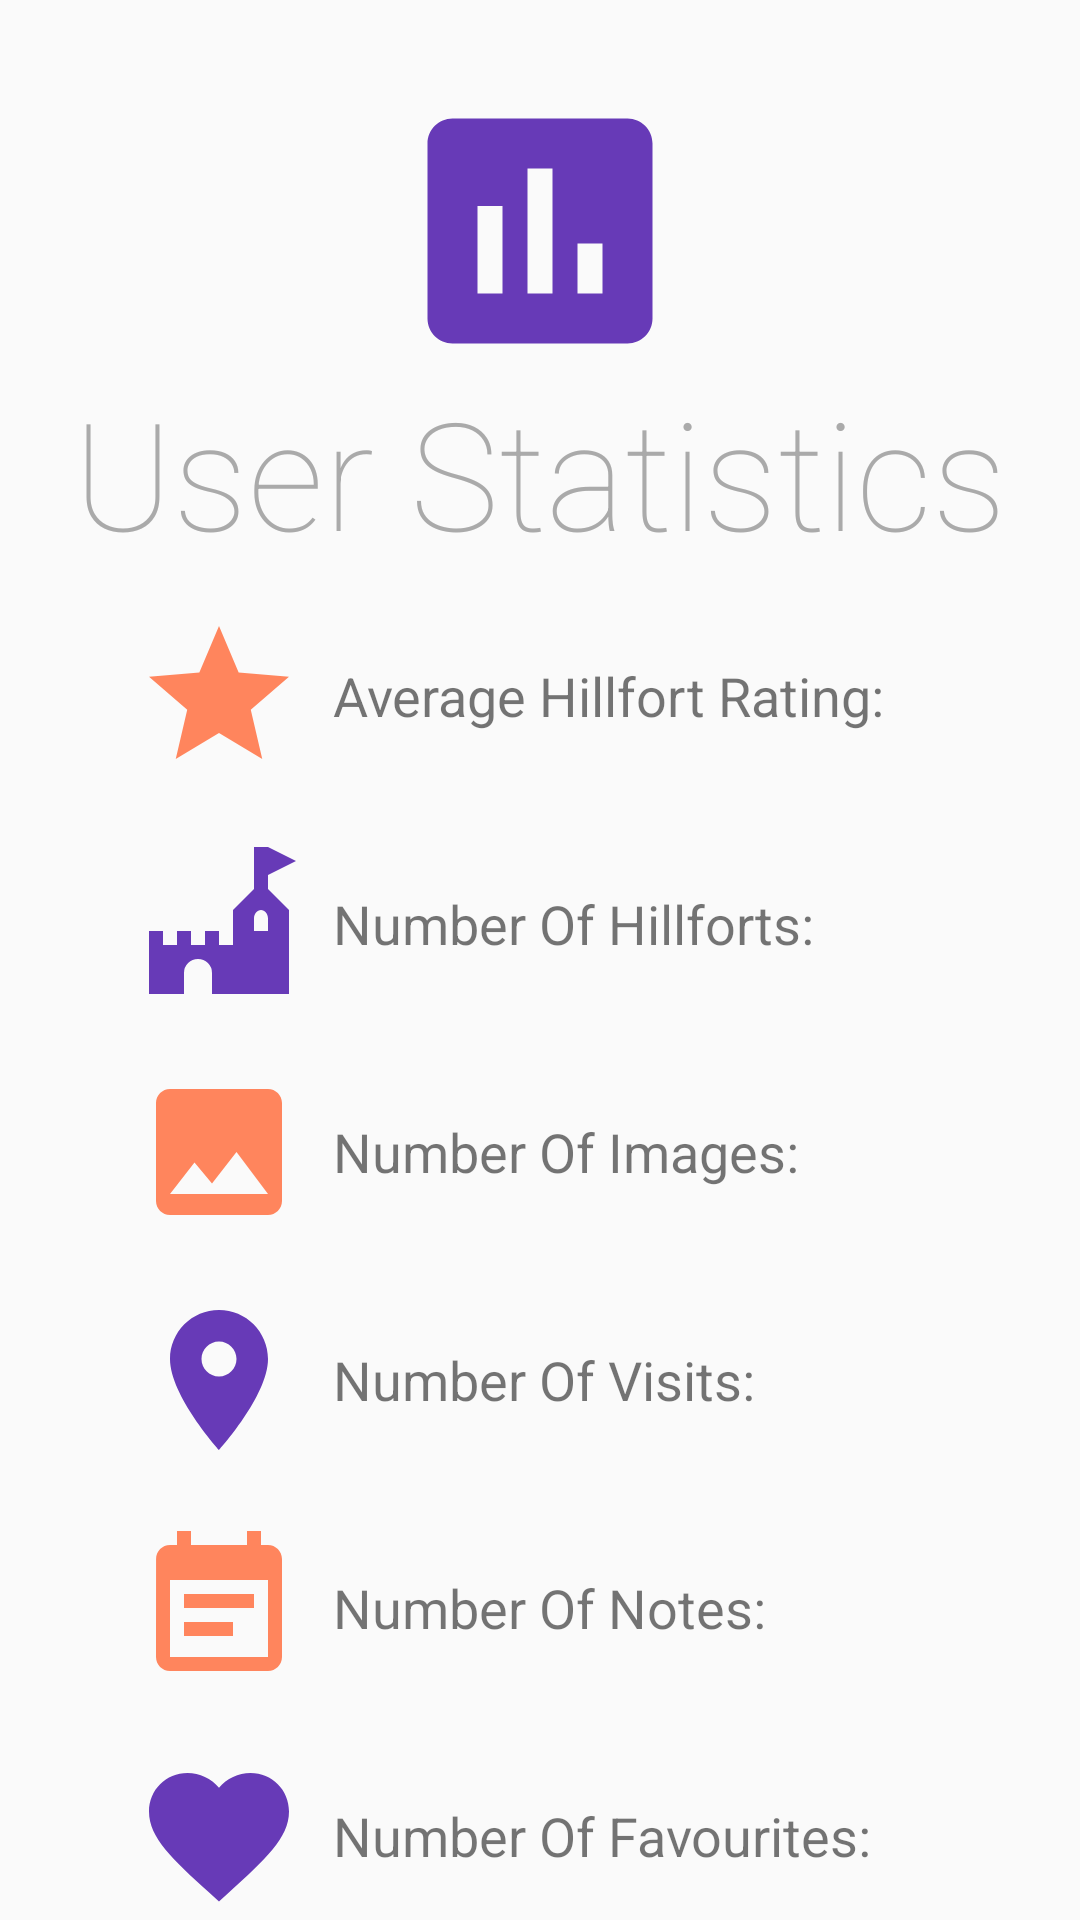

Named icons in this screenshot (1080 × 1920) and their bounding boxes, rect(x1, y1, x2, y2):
castle: rect(149, 847, 296, 994)
favorite: rect(149, 1773, 289, 1902)
star: rect(149, 626, 289, 759)
stats: rect(427, 118, 653, 344)
visited: rect(170, 1310, 268, 1450)
